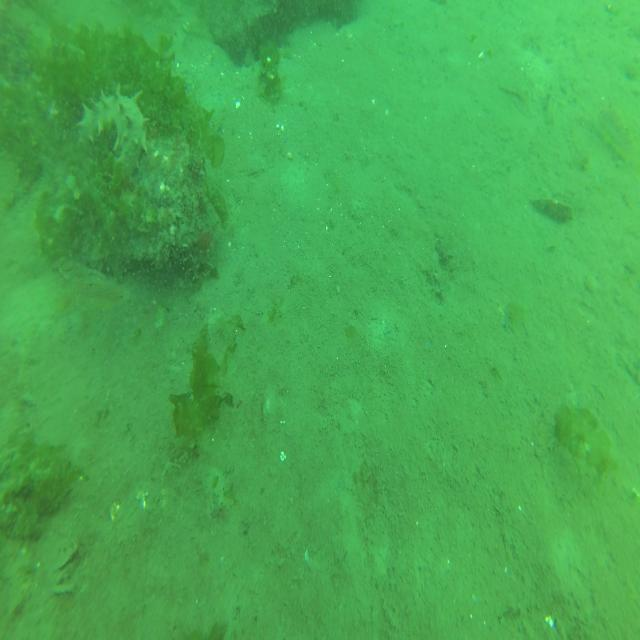holothurian: (76, 81, 150, 183)
scallop: (529, 197, 574, 224)
